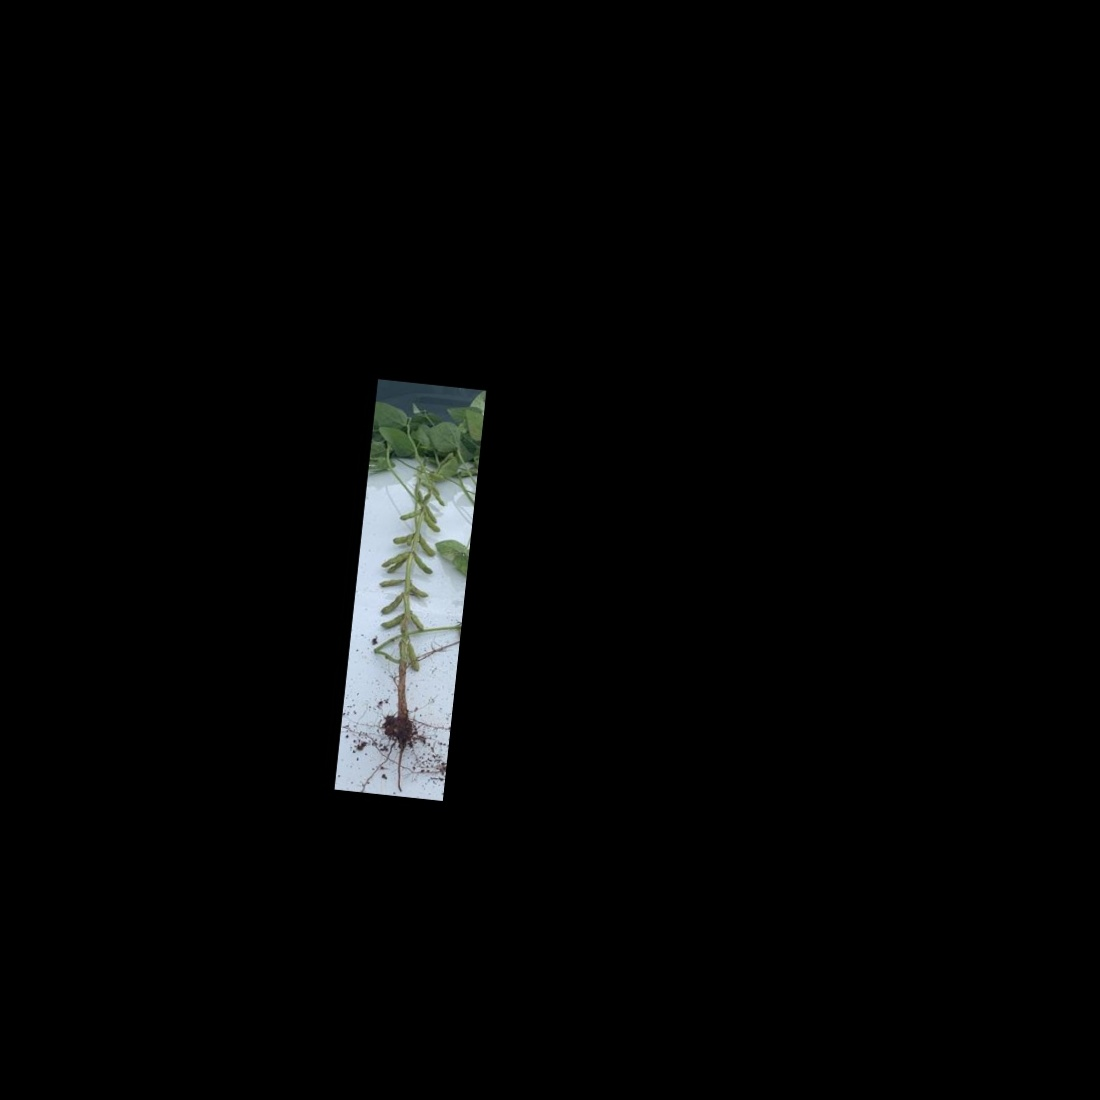pod: (378, 588, 406, 617), (408, 550, 437, 577), (379, 546, 409, 570), (404, 643, 426, 673), (419, 508, 442, 535), (372, 576, 408, 592), (405, 610, 428, 634), (379, 612, 403, 633), (407, 583, 433, 600), (388, 529, 412, 545), (398, 506, 416, 522)
soy: (345, 407, 479, 754)
